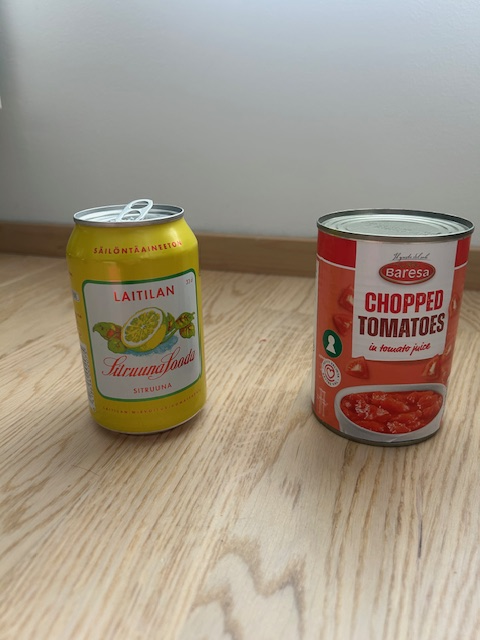Konservburk: (309, 208, 475, 448)
Pantburk: (66, 198, 208, 437)
